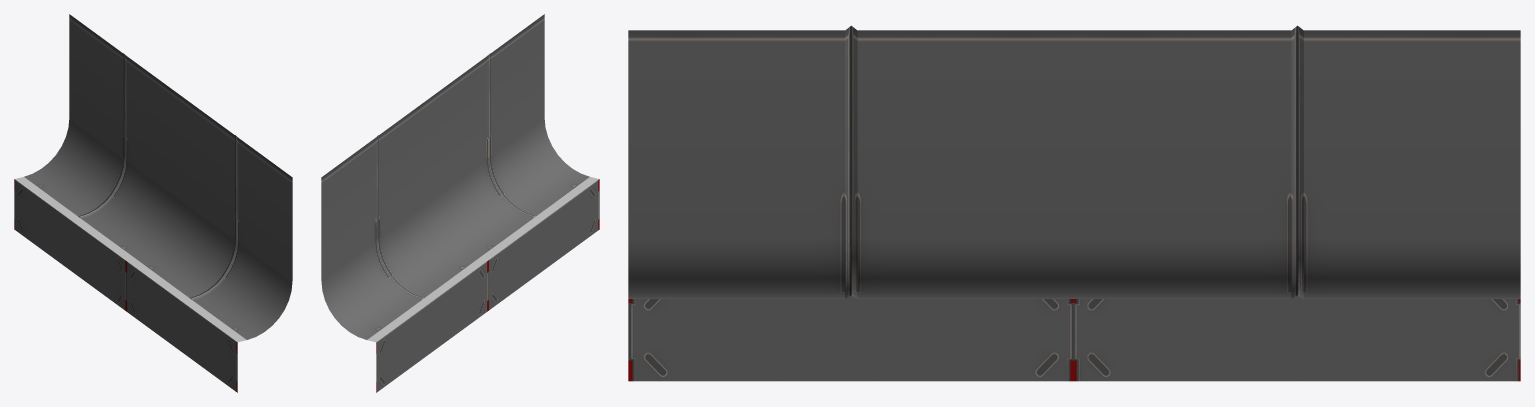
File: TopPlastic_Straight.gltf
3 renders of one model, left to right at view 1: azimuth 30°, elevation 25°; view 2: azimuth 150°, elevation 25°; view 3: azimuth 270°, elevation 25°, orthographic. The views are drawn at different scales.
Parts seen in each view (by area): view 1: TopPlastic_Straight; view 2: TopPlastic_Straight; view 3: TopPlastic_Straight.
Part boxes in pixels (bbox=[...]): TopPlastic_Straight: bbox=[14, 14, 292, 392]; TopPlastic_Straight: bbox=[321, 14, 599, 392]; TopPlastic_Straight: bbox=[628, 25, 1520, 381].
Size of the model in its own units: 0.5679 by 2.02 by 4.
Materials: 3 (3 with a texture image).
